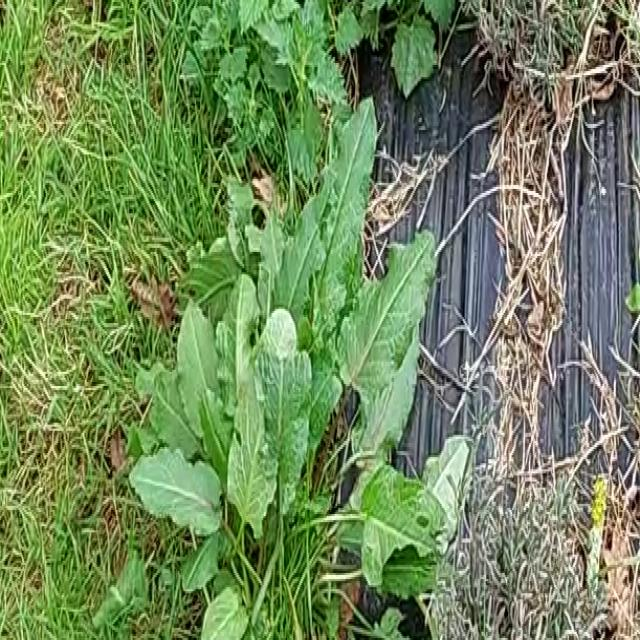organic waste: (121, 128, 444, 640)
